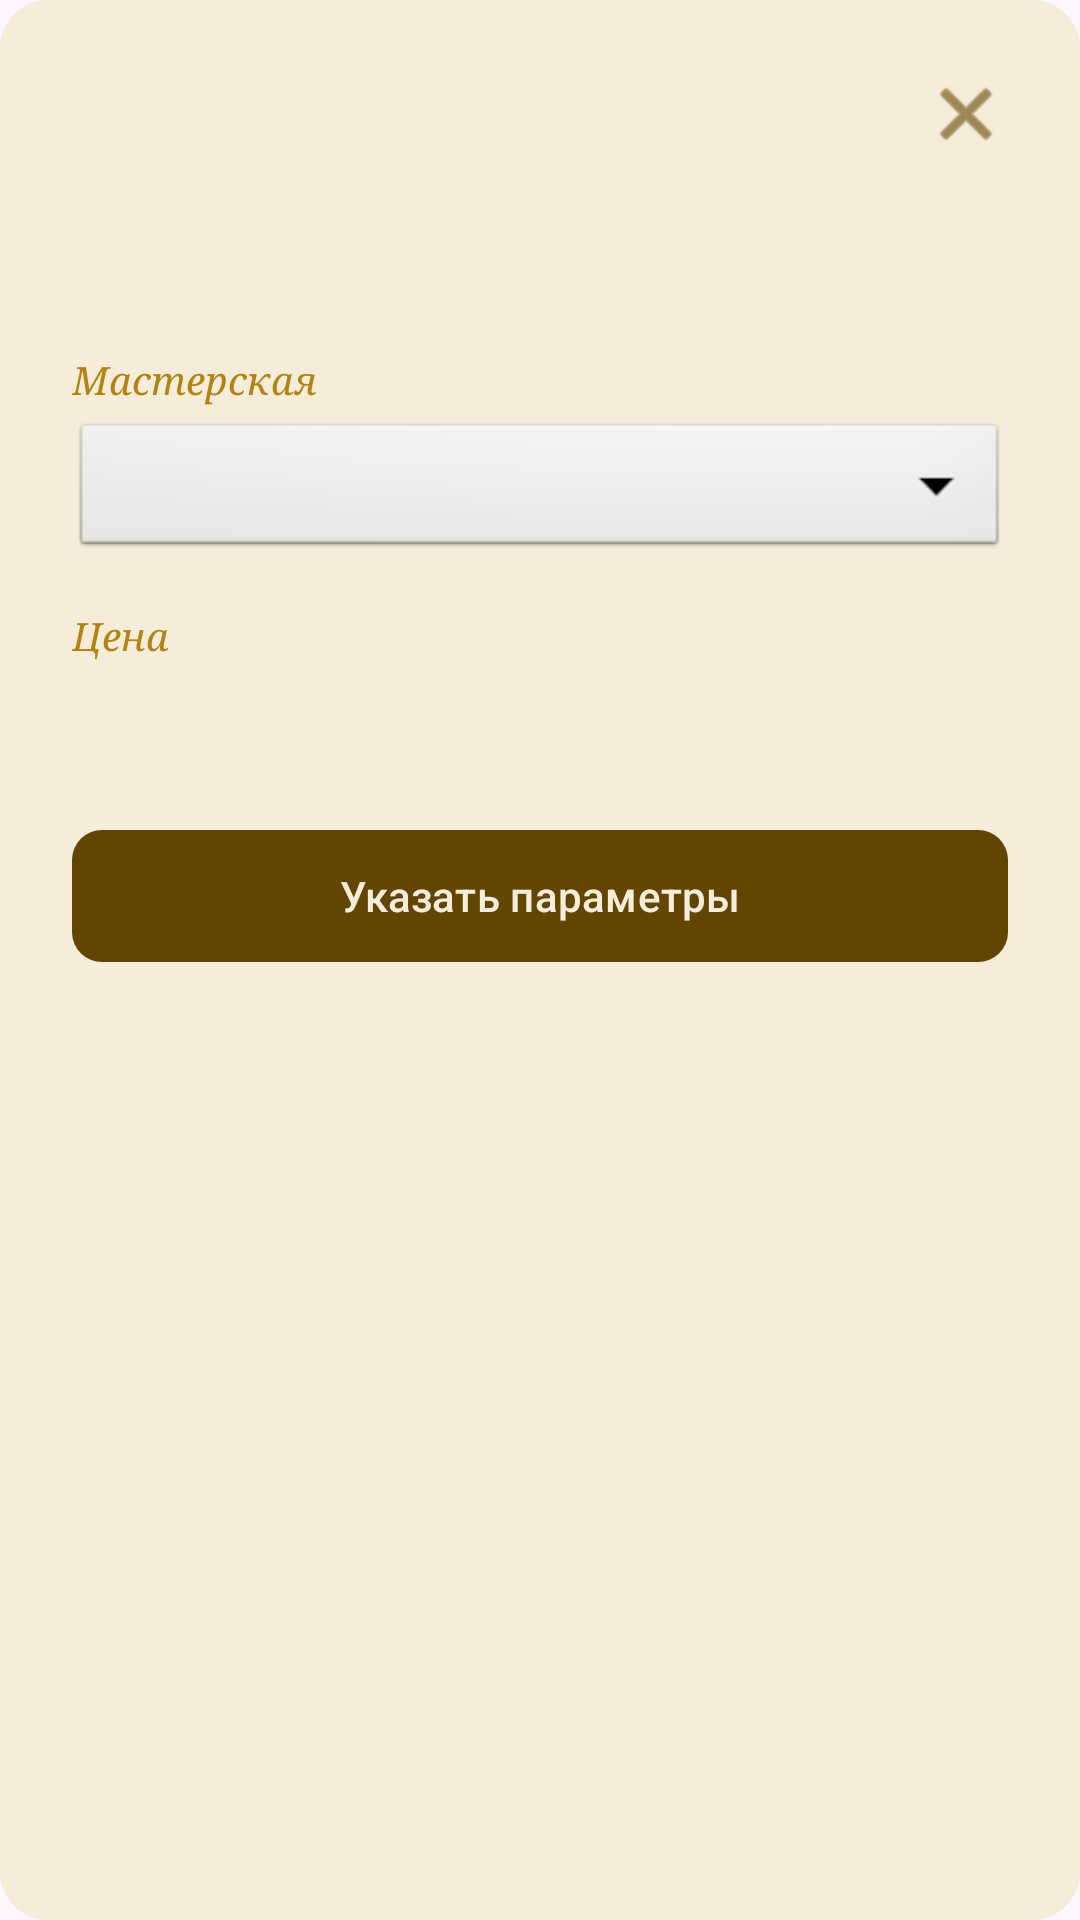

Icons on this 1080×1920 Android screen, each with the point to tap as (x,y):
Закрыть: (966,114)
